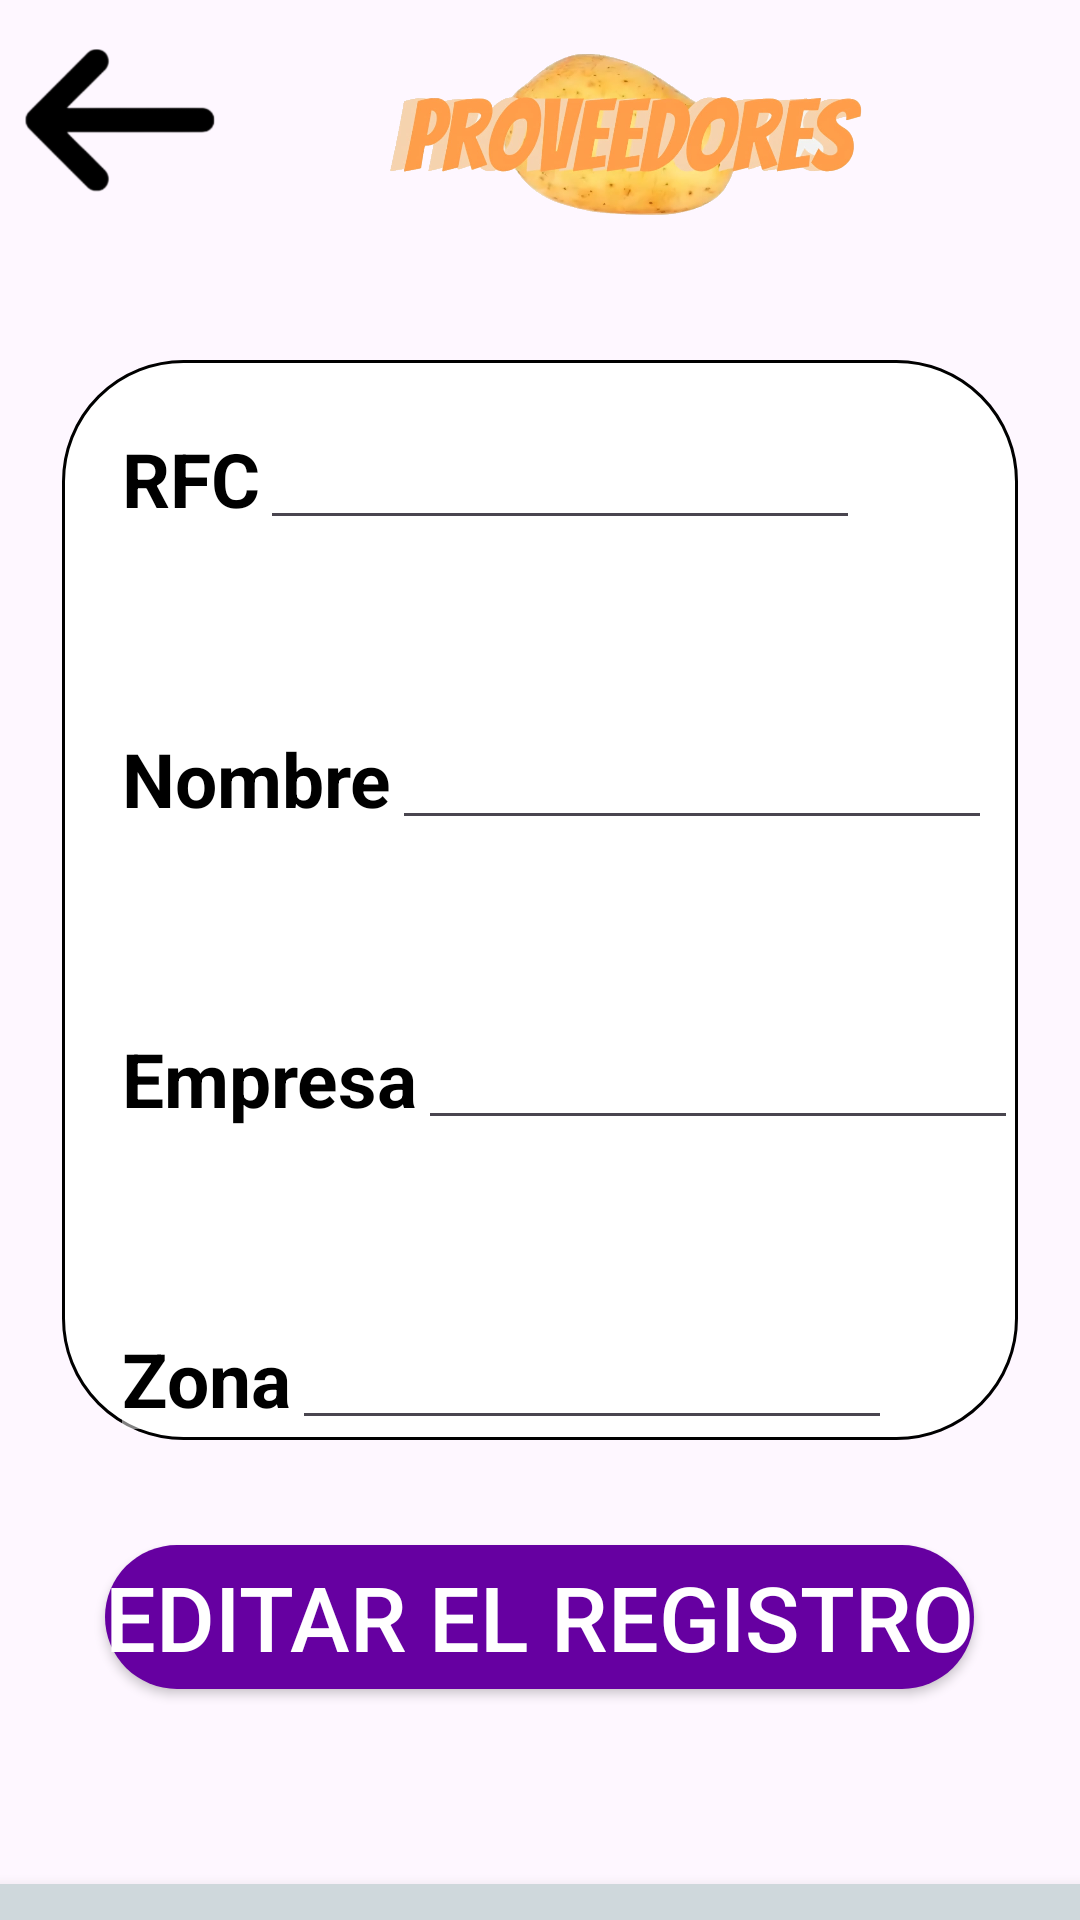

Icon click points for this 1080 × 1920 phone screenshot, format (x=x, y=y):
flecha: (x=120, y=120)
